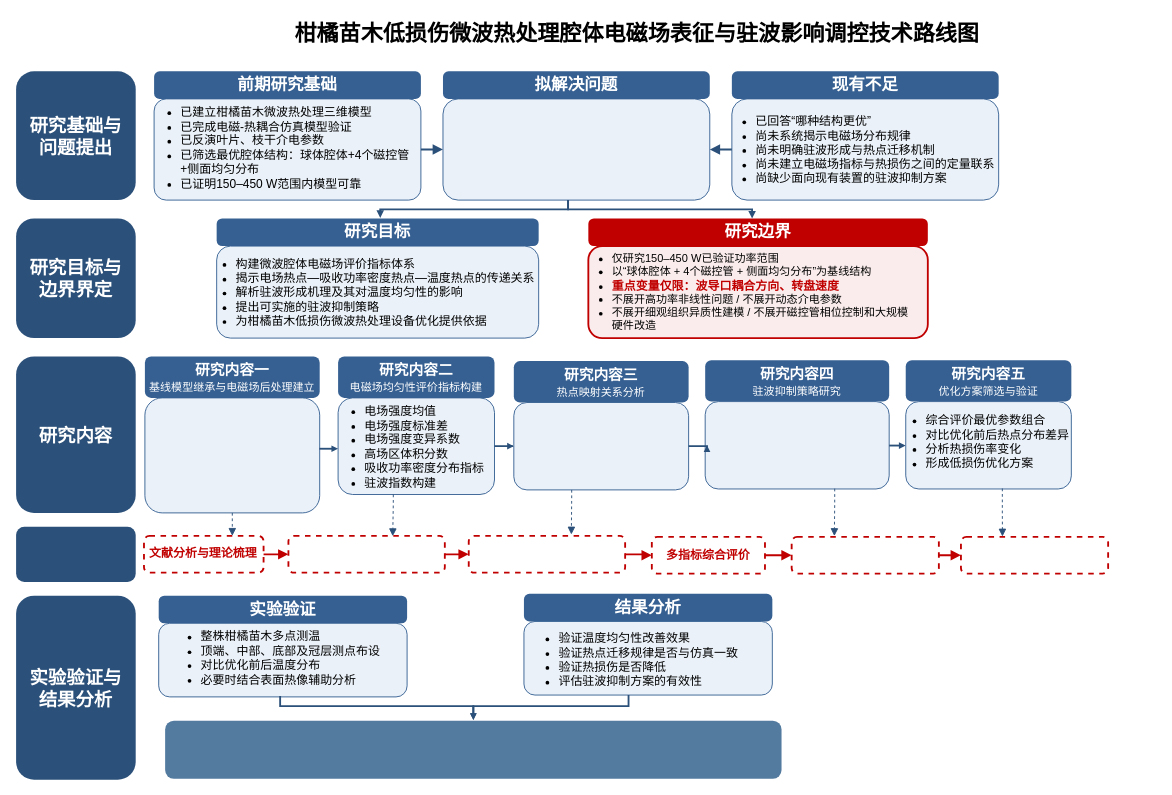
The diagram is 1172 pixels wide and 795 high, and some of its shapes have lost their labels. Each missing label, with the box of its shape:
COMSOL电磁-热耦合建模: (287, 535, 445, 573)
仿真结果筛选优化方案: (960, 535, 1109, 574)
分析电场热点分布 分析吸收功率密度热点分布 分析温度热点与热损伤区域 建立“电磁场—功率沉积—温度—热损伤”映射链条: (513, 402, 689, 490)
参数化仿真与场分布后处理: (467, 535, 626, 573)
变量1：波导口耦合方向优化 变量2：转盘速度调控 分析不同工况下驻波分布变化 评价其对电磁场均匀性和温度均匀性的改善作用: (704, 401, 889, 489)
对比分析与机制解释: (790, 535, 939, 574)
形成机理认知 揭示“结构/端口条件 → 电磁场分布 → 吸收功率沉积 → 温度热点形成 → 热损伤变化”的作用机制: (165, 720, 781, 778)
技术方法与 实施路径: (16, 526, 135, 581)
电磁场不均如何演化为局部热点与热损伤？ 驻波在最优腔体中如何形成与分布？ 如何在不改变总体最优结构前提下进一步抑制驻波、降低热损伤？: (442, 98, 710, 200)
继承前期已验证三维模型与材料参数 保持最优腔体结构为基线 构建适用于电磁场分析的后处理流程 提取电场强度、吸收功率密度等空间分布信息: (144, 397, 320, 513)
